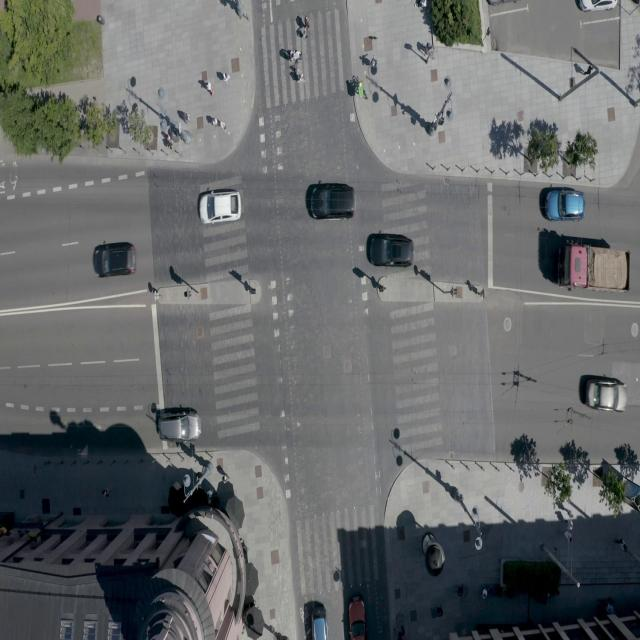Car: (92, 242, 136, 280), (310, 182, 354, 220), (369, 233, 415, 269), (199, 190, 241, 225), (158, 411, 201, 444), (544, 188, 585, 222), (585, 380, 627, 413), (348, 598, 368, 640), (578, 0, 617, 13)
Truck: (556, 239, 631, 293)
